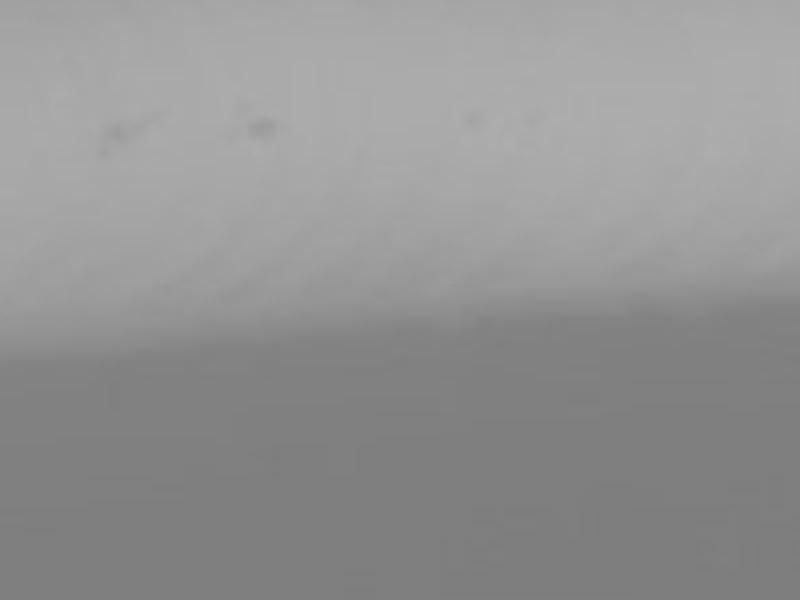defect: (243, 116, 284, 143), (520, 101, 554, 127), (129, 116, 154, 142), (459, 106, 488, 128), (98, 121, 125, 144), (215, 120, 239, 140), (99, 143, 119, 163), (230, 94, 254, 110)
